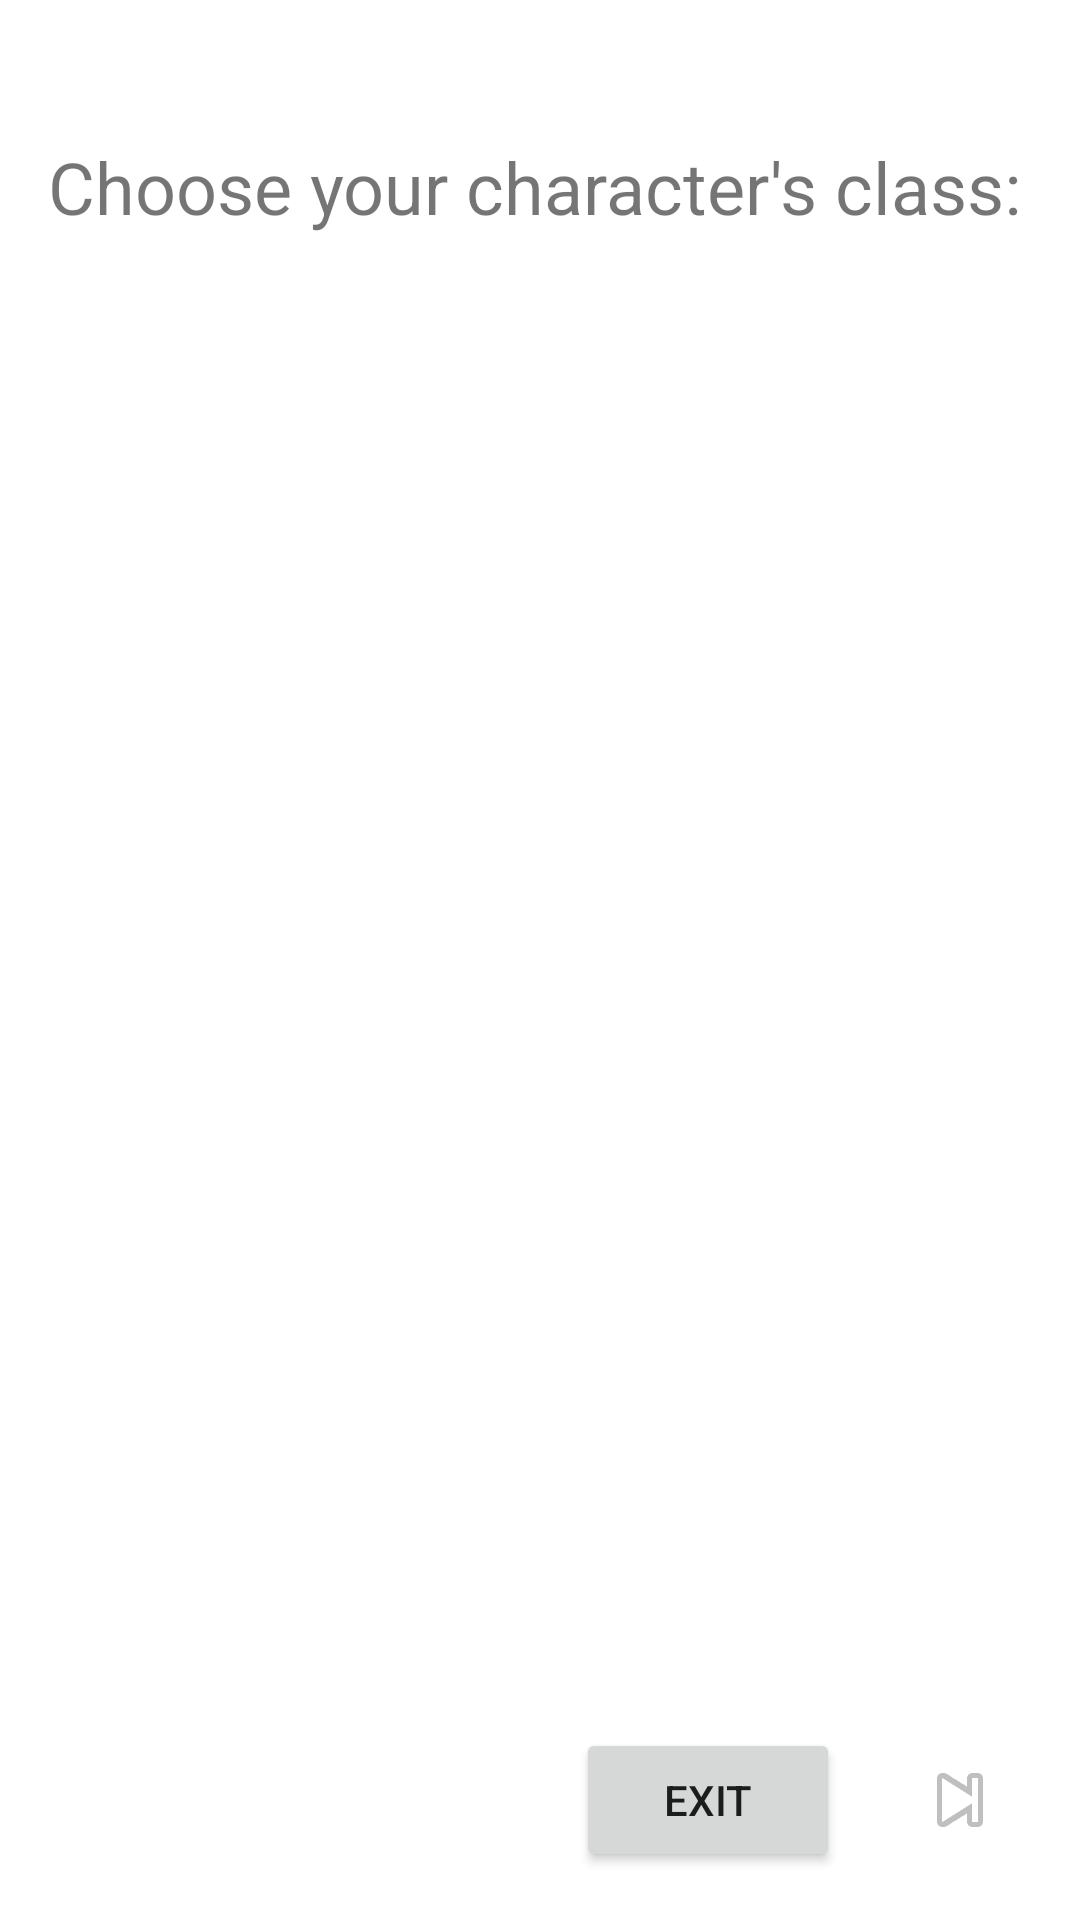

Named icons in this screenshot (1080×1920) and their centers, point (x, y):
Next: point (960, 1800)
